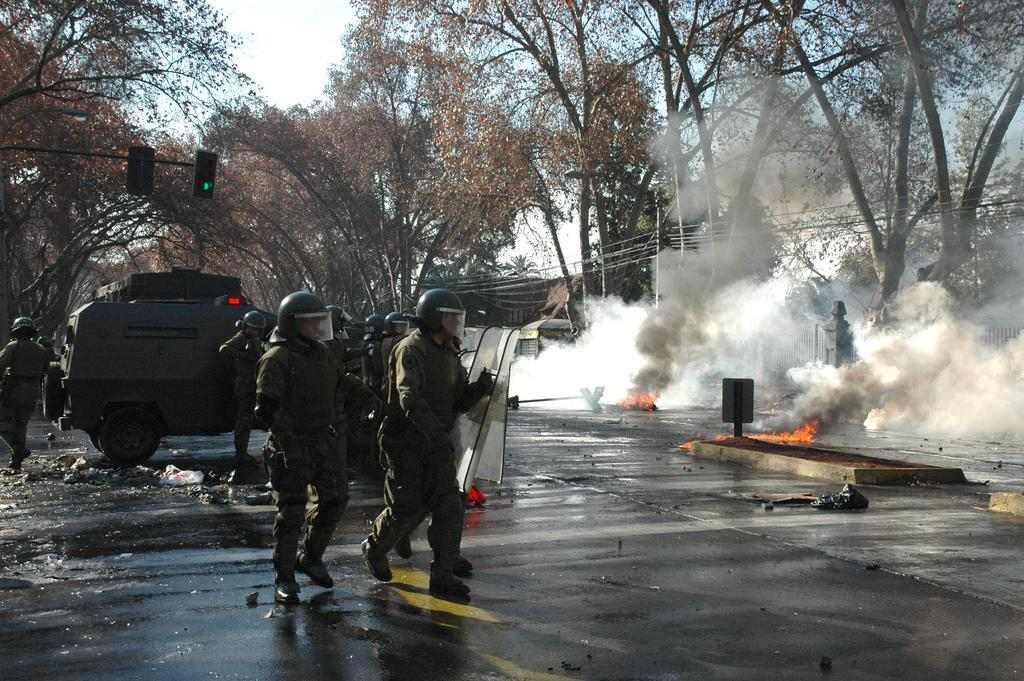fire: (740, 427, 822, 445), (617, 390, 665, 410)
smoke: (882, 338, 957, 423), (677, 258, 718, 342), (695, 350, 703, 355)
